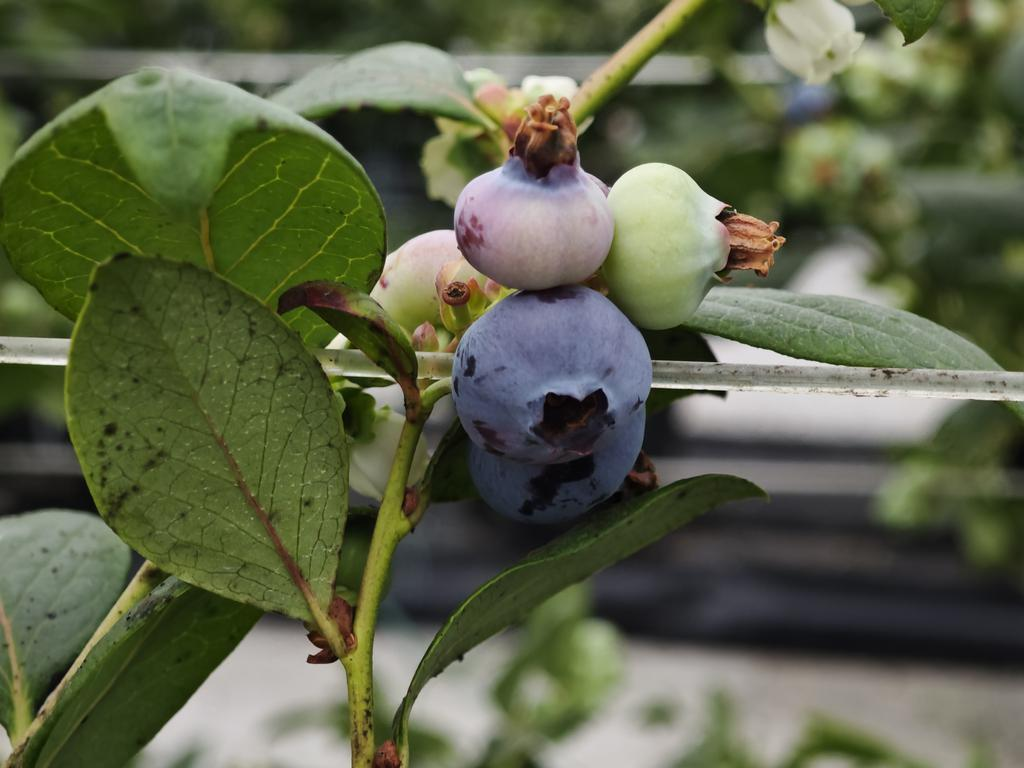RipeBlueBerry: (453, 284, 653, 465)
Semi-RipeBlueBerry: (450, 152, 614, 290)
UnripeBlueBerry: (609, 160, 739, 331)
